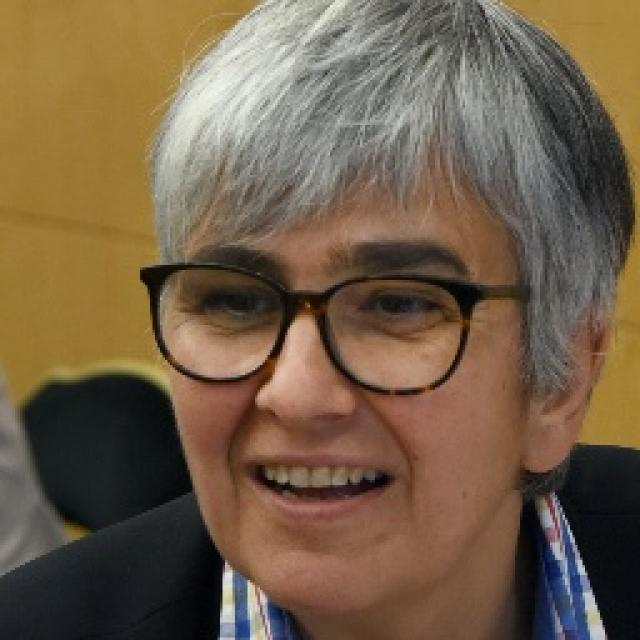earlobe: (515, 292, 614, 475)
